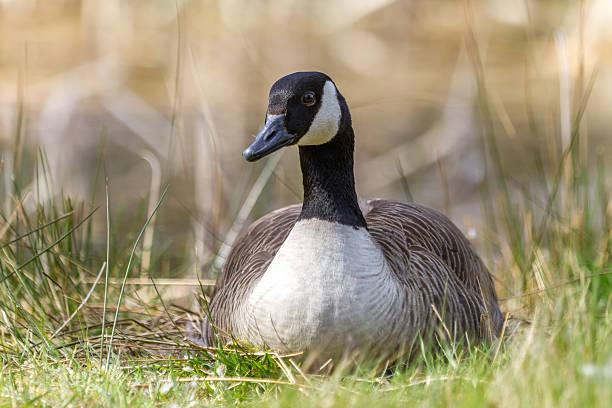Canadian-Goose: (210, 70, 505, 363)
